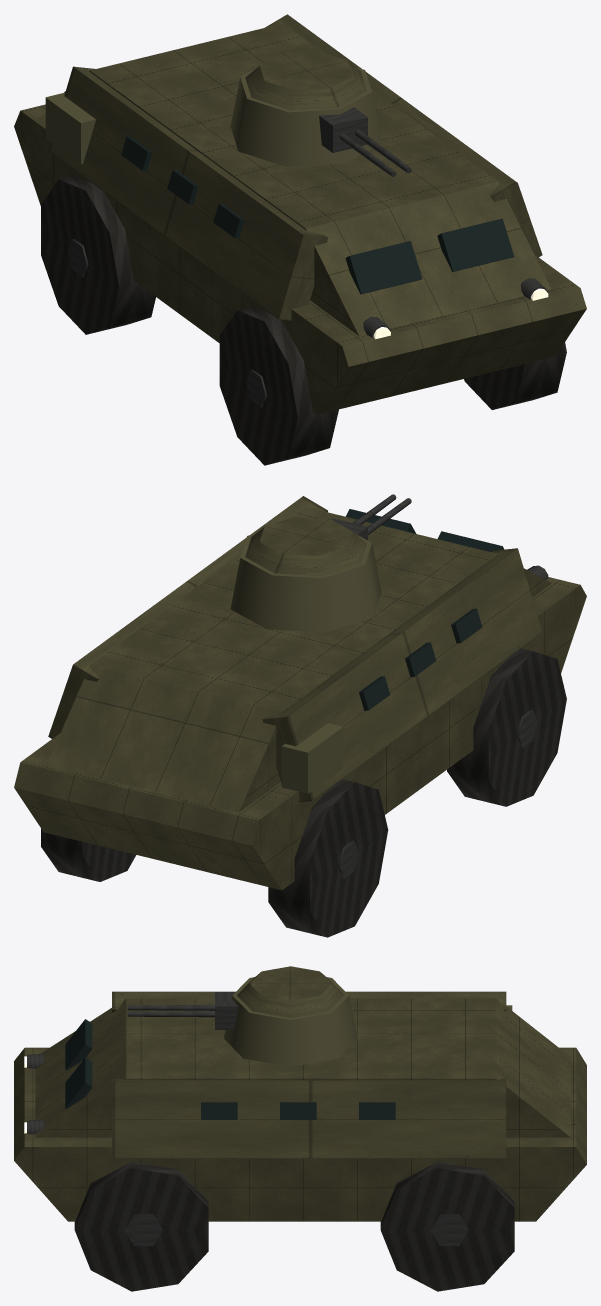
File: v100_commando_lod2.glb
3 renders of one model, top to bottom at view 1: azimuth 30°, elevation 25°; view 2: azimuth 150°, elevation 25°; view 3: azimuth 270°, elevation 25°, orthographic. The views are drawn at different scales.
Parts seen in each view (by area): view 1: V100_Commando; view 2: V100_Commando; view 3: V100_Commando.
Part boxes in pixels (<box>): V100_Commando: <box>14,14,586,465</box>; V100_Commando: <box>14,494,586,937</box>; V100_Commando: <box>14,966,586,1291</box>.
Size of the model in its own units: 2.49 by 2.57 by 5.3.
Materials: 6 (3 with a texture image).
